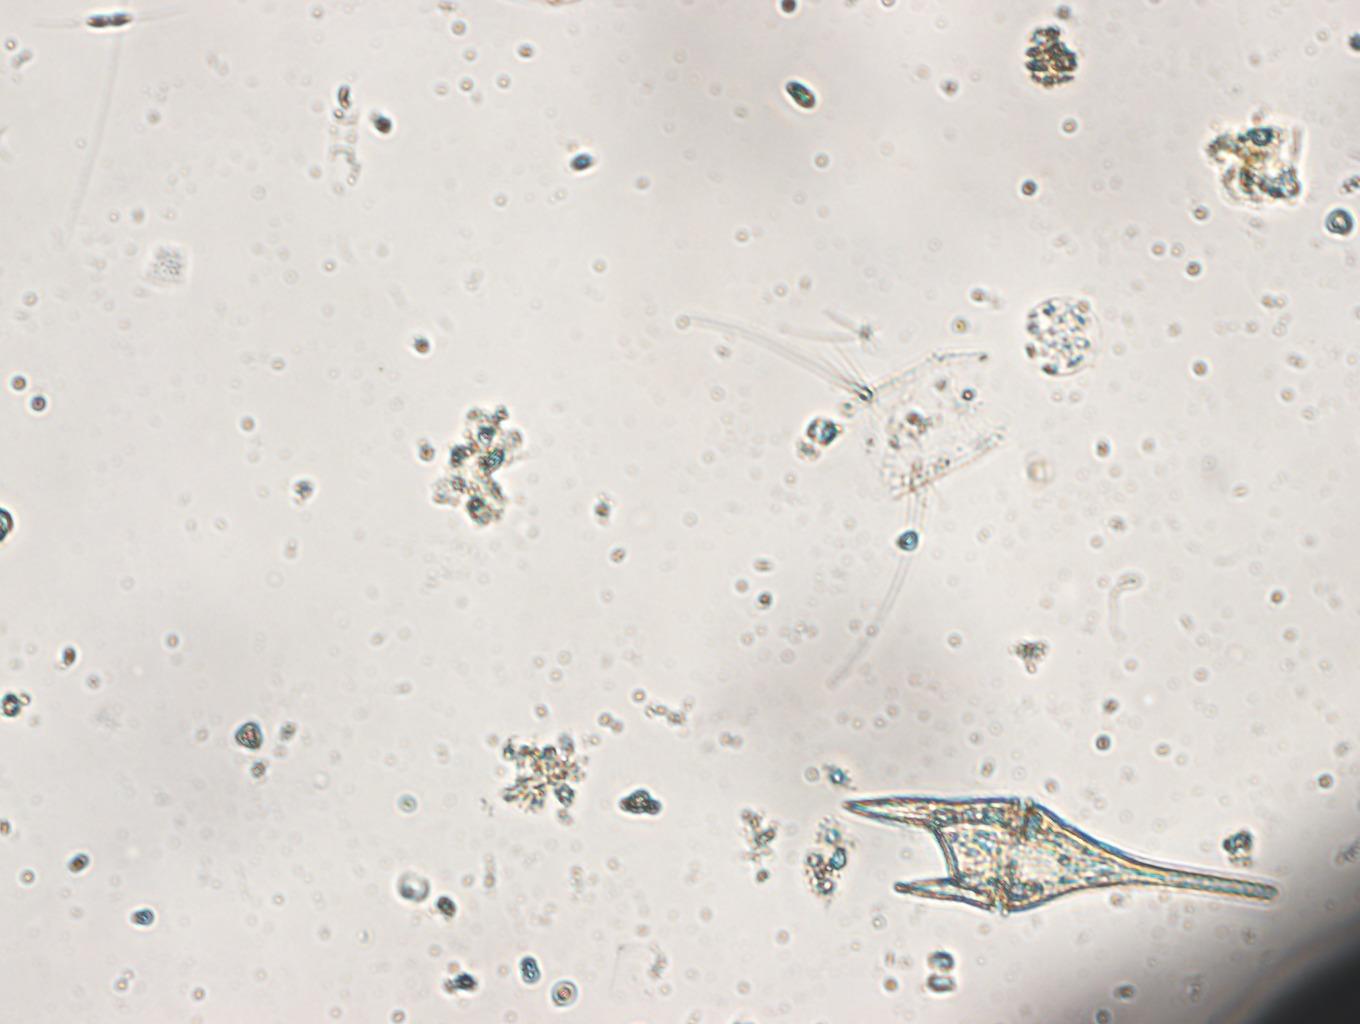ceratium furca: (841, 794, 1282, 918)
